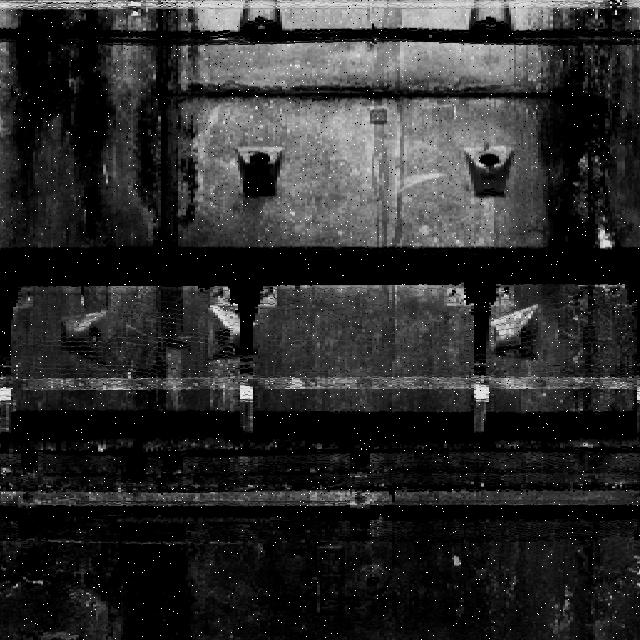leakage: (538, 0, 640, 409), (4, 8, 123, 243), (130, 0, 206, 345), (82, 436, 199, 639)
